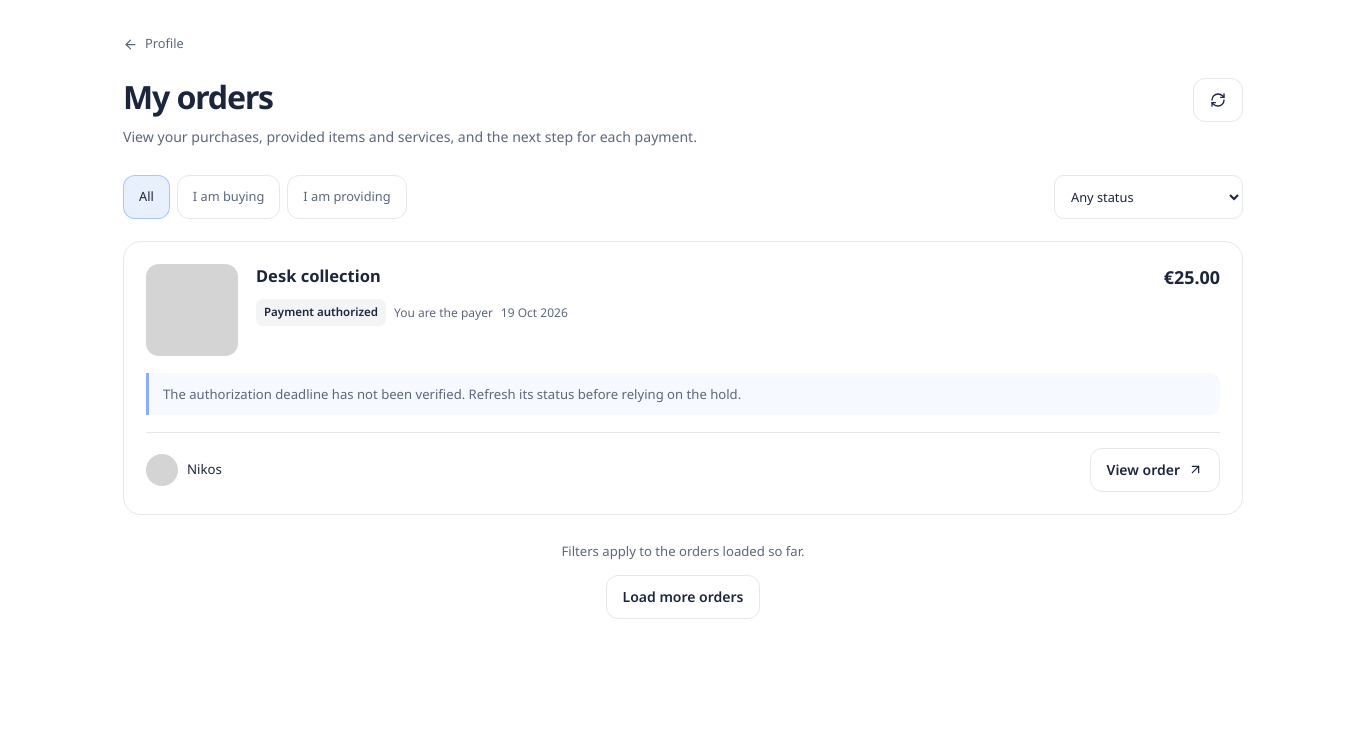
My orders list › uses the supplied cursor and keeps loaded results when loading more fails
The image size is (1366, 744).
Step 1. Click the button "Load more orders" → click(683, 597), box [606,575,760,619]
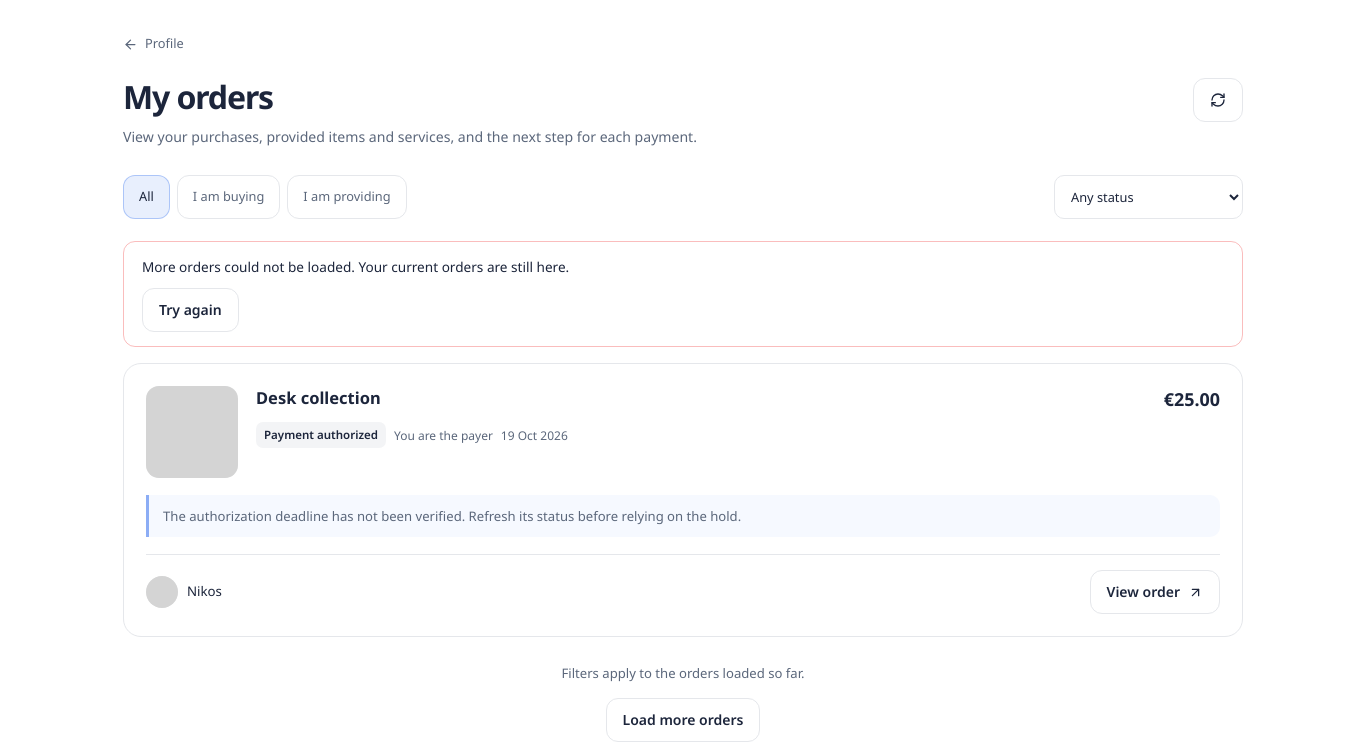
Expected: the link "Desk collection" is shown, [256,386,381,409]
Now the message shows "More orders could not be loaded", box [142,257,569,276]
Step 2. Click the button "Try again" → click(190, 310), box [142,288,239,332]
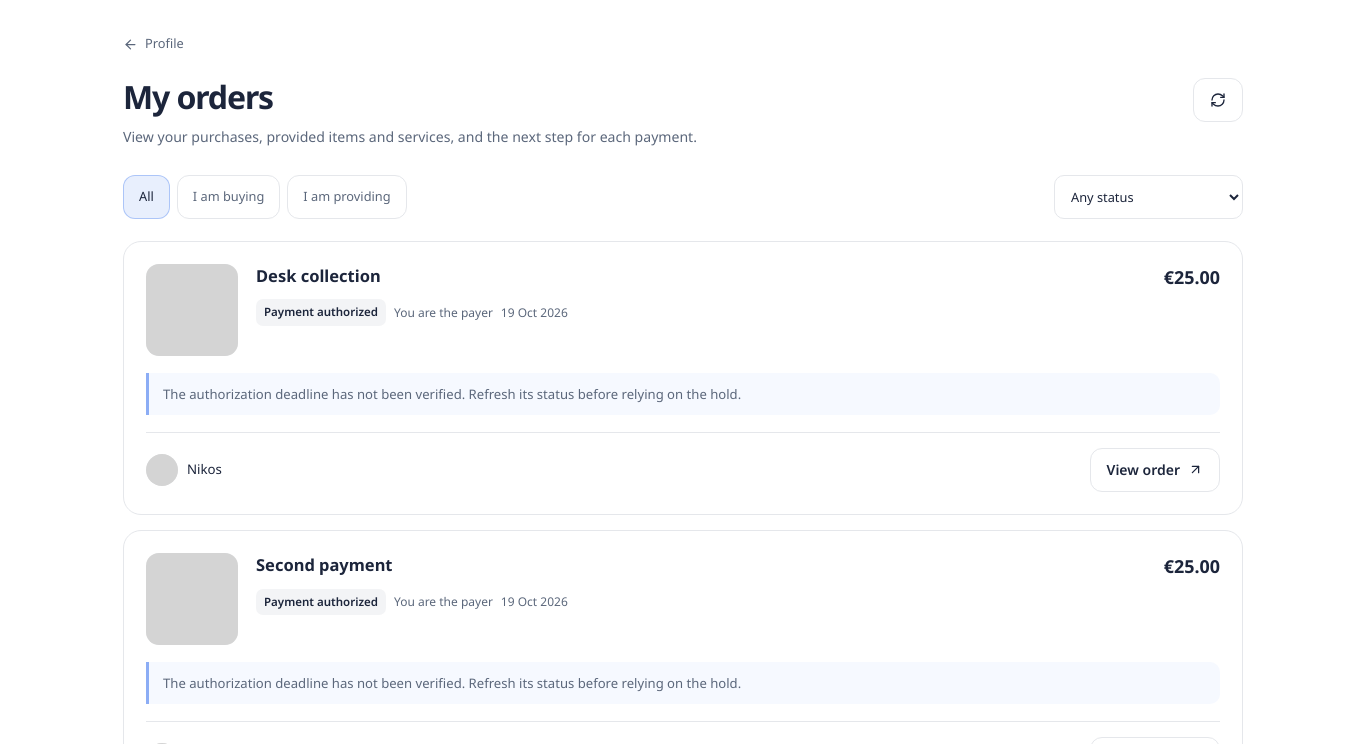
Expected: the link "Desk collection" is shown, [256,264,381,287]
Now the link "Second payment" is shown, box [256,553,392,576]
